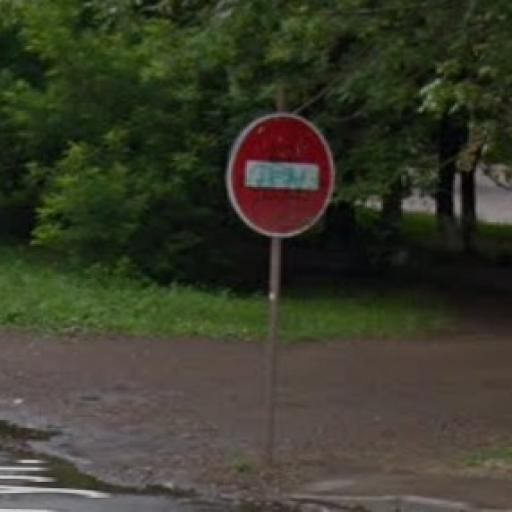traffic_sign: (223, 109, 341, 242)
